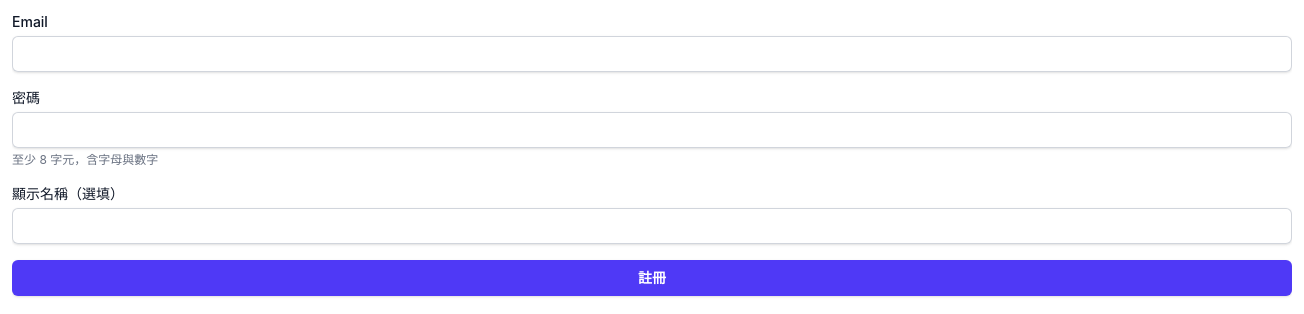
Test case: RegisterForm › shows client-side validation error when password too short
Step 1. Type "a@b.com" into the field labelled "Email" → (652, 54), box [12,36,1292,72]
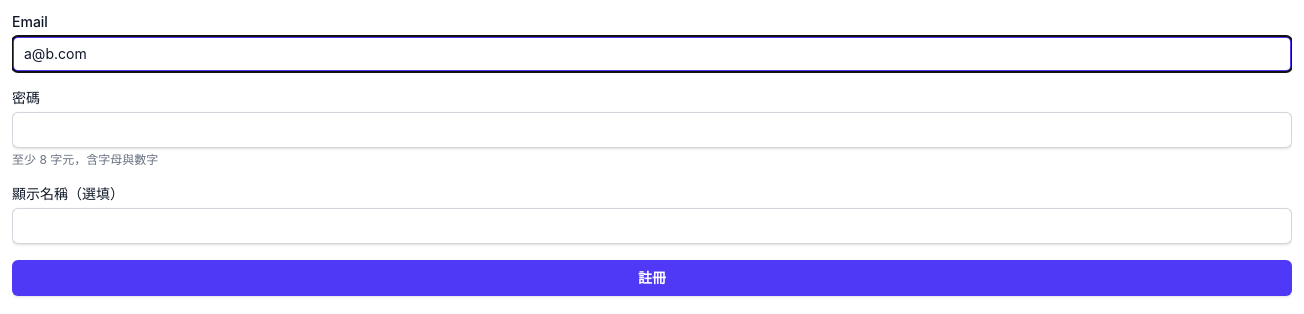
Step 2. Type "Aa1" into the password field labelled "密碼" → (652, 130), box [12,112,1292,148]
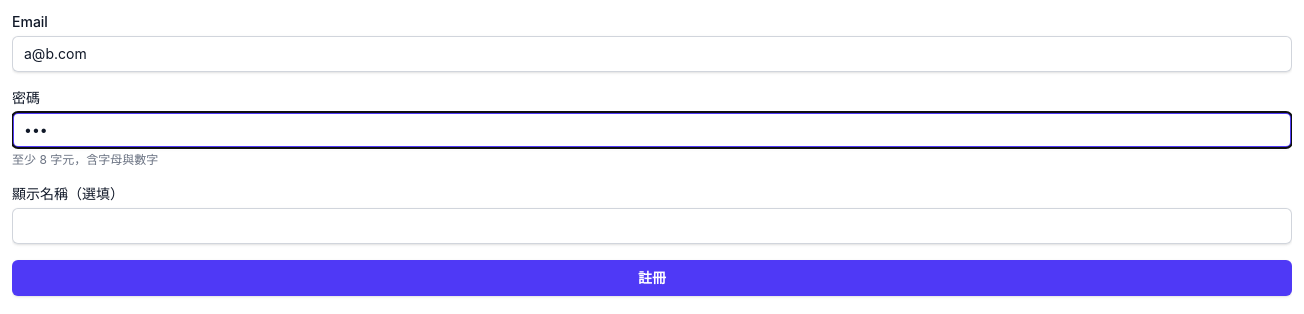
Step 3. Click the button "註冊" → (652, 278), box [12,260,1292,296]
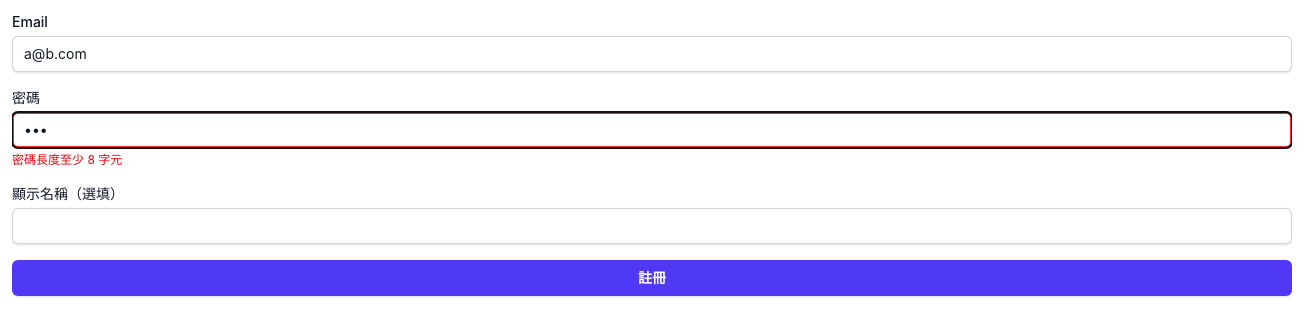
Check: the text "密碼長度至少 8 字元" is shown, box [12,152,122,167]
